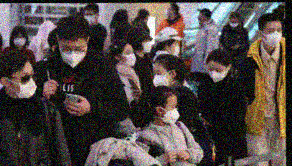with_mask: (15, 68, 38, 100), (61, 44, 88, 67), (263, 25, 284, 48), (162, 102, 180, 124), (152, 68, 171, 88), (207, 65, 228, 83), (121, 49, 137, 66), (13, 33, 27, 48), (170, 40, 182, 57), (83, 11, 96, 26), (141, 38, 153, 54), (165, 5, 174, 18), (229, 20, 241, 28), (127, 15, 134, 26)
